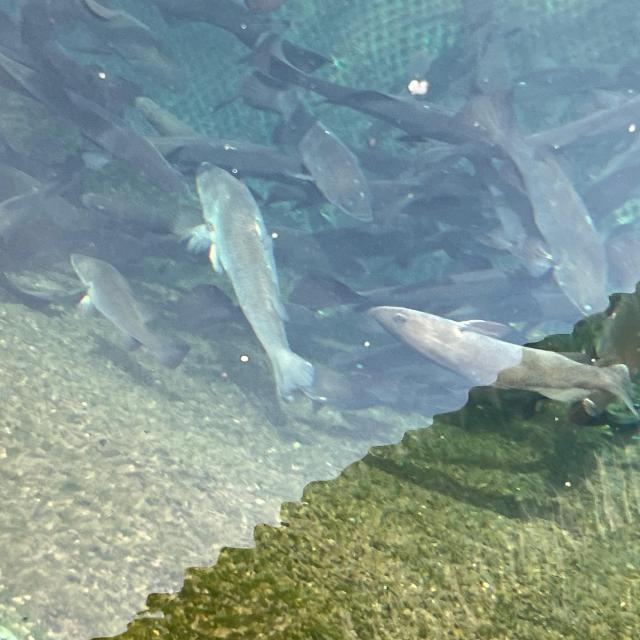ikan: (152, 148, 352, 418), (362, 259, 614, 419)
